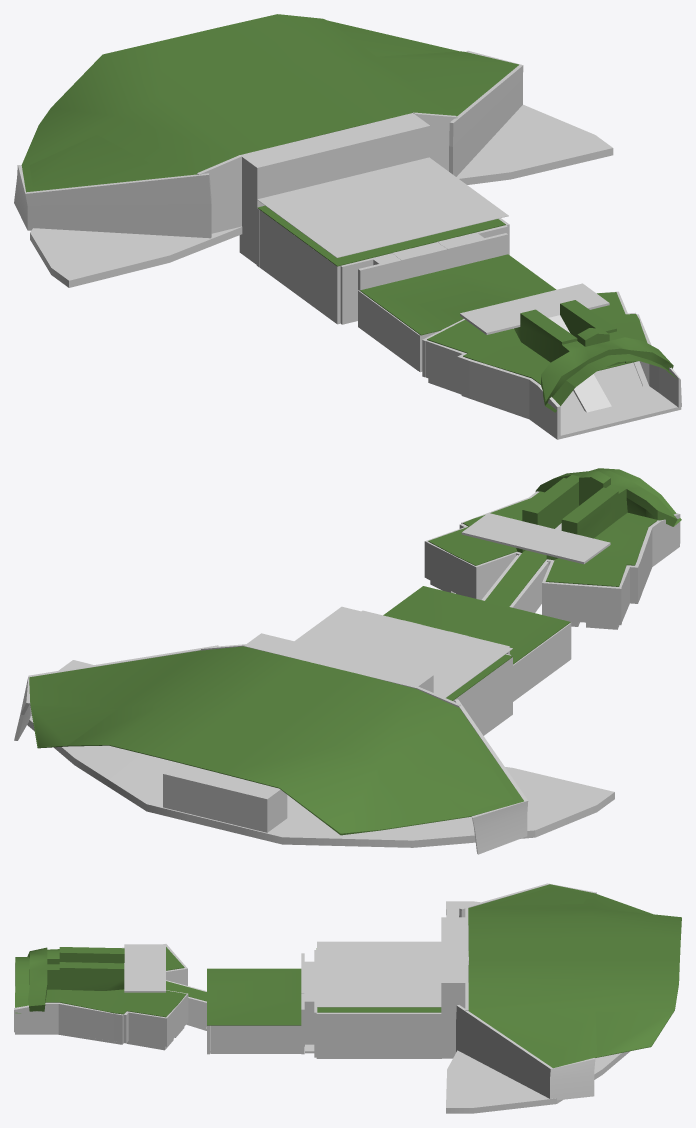
File: Playtest Internals.fbx
3 views of the same model, one above another, from view 1: azimuth 30°, elevation 25°; view 2: azimuth 150°, elevation 25°; view 3: azimuth 270°, elevation 25° (orthographic). The views are drawn at different scales.
Parts seen in each view (by area): view 1: ShipCeiling, ShipUpperFloorFloor, Box504, Box565, Box560, Box541, Box564, Box591, Box586, Box561, Box583, Box529 (+10 smaller); view 2: ShipCeiling, Box504, ShipUpperFloorFloor, Box514, Box586, Box565, Box541, Box560, Box529, Box591, Box517, Box519 (+6 smaller); view 3: ShipCeiling, ShipUpperFloorFloor, Box542, Box564, Box504, Box592, Box530, Box586, Box561, Box560, Box524, Box573 (+4 smaller).
Boxes of the visible parts, x1,y1,x2,y2 form: ShipCeiling: (21, 14, 676, 412); ShipUpperFloorFloor: (257, 157, 508, 257); Box504: (30, 104, 613, 287); Box565: (14, 165, 211, 238); Box560: (239, 127, 371, 264); Box541: (256, 210, 340, 324); Box564: (449, 50, 523, 176); Box591: (460, 356, 560, 436); Box586: (460, 283, 609, 334); Box561: (354, 113, 430, 171); Box583: (461, 361, 681, 439); Box529: (358, 290, 418, 370); ShipCeiling: (29, 468, 681, 835); Box504: (27, 660, 614, 847); ShipUpperFloorFloor: (294, 606, 512, 697); Box514: (163, 763, 287, 832); Box586: (461, 513, 610, 564); Box565: (454, 699, 528, 854); Box541: (453, 657, 512, 735); Box560: (302, 647, 433, 692); Box529: (513, 624, 569, 701); Box591: (635, 513, 680, 601); Box517: (581, 584, 621, 625); Box519: (542, 581, 582, 622); ShipCeiling: (15, 884, 681, 1068); ShipUpperFloorFloor: (317, 941, 468, 1007); Box542: (316, 1012, 441, 1058); Box564: (456, 1005, 595, 1100); Box504: (446, 901, 629, 1113); Box592: (14, 1002, 123, 1043); Box530: (210, 1025, 301, 1053); Box586: (124, 944, 165, 992); Box561: (441, 960, 468, 1058); Box560: (441, 917, 468, 960); Box524: (128, 1011, 164, 1046); Box573: (166, 980, 206, 1030).
Size of the model in its own units: 3071 by 553 by 4198.
